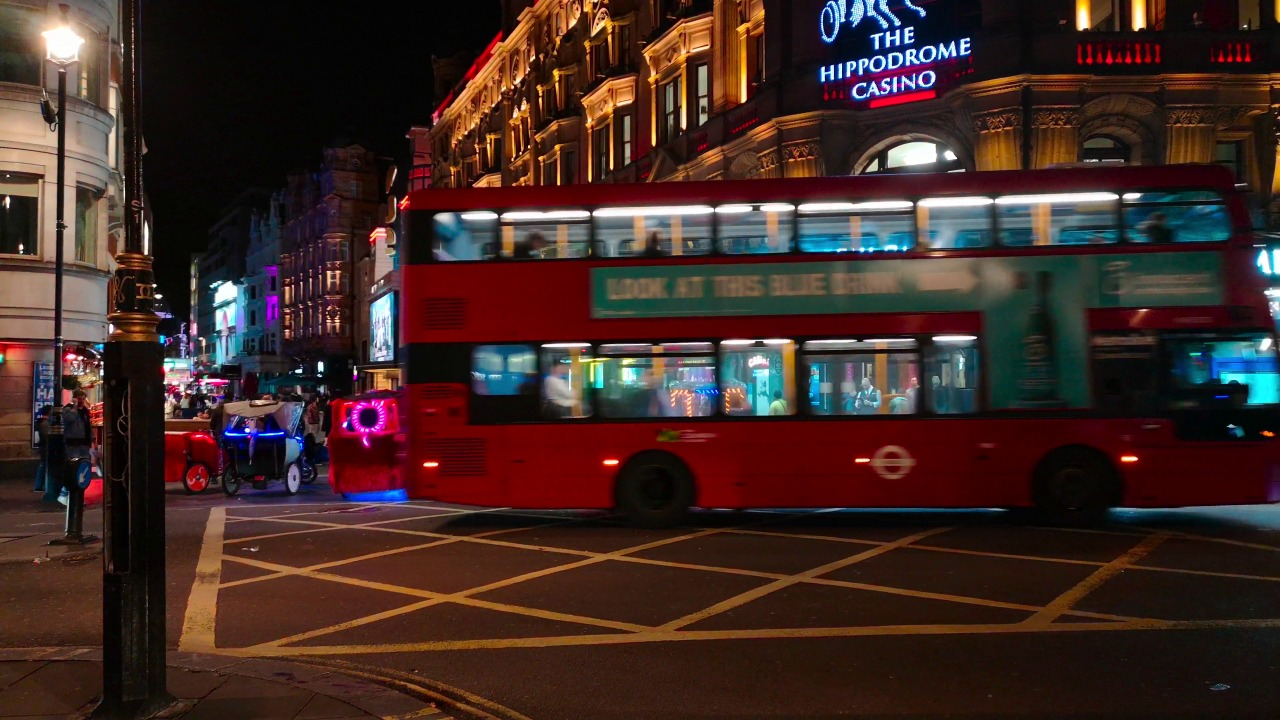car: (396, 177, 1280, 518), (323, 392, 418, 492), (222, 387, 312, 490), (158, 409, 220, 497)
person: (29, 401, 62, 490), (67, 390, 91, 491), (631, 223, 679, 267), (542, 351, 575, 408), (515, 229, 560, 268), (848, 370, 885, 416), (757, 387, 793, 409)
